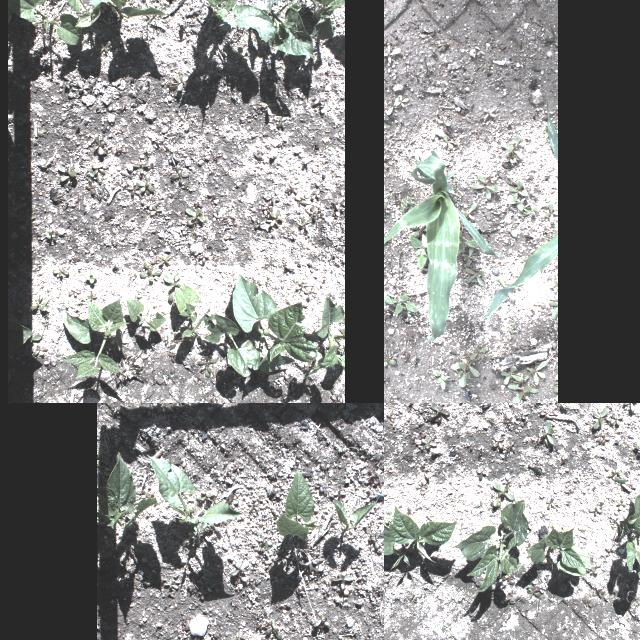crop: (384, 151, 507, 343), (232, 273, 320, 373), (145, 454, 243, 532), (454, 500, 530, 594), (486, 232, 558, 324), (59, 294, 128, 378), (97, 450, 157, 536), (384, 506, 457, 569), (197, 0, 275, 49), (203, 313, 260, 377), (254, 0, 314, 59), (8, 0, 84, 44), (305, 296, 345, 378), (526, 528, 594, 576), (276, 468, 318, 540), (332, 494, 382, 544), (171, 282, 211, 344), (90, 0, 167, 27), (297, 0, 345, 39), (624, 480, 640, 590), (8, 311, 34, 359), (126, 300, 166, 330), (63, 0, 101, 27), (546, 100, 556, 160)
weed: (450, 348, 488, 389), (410, 232, 438, 274), (468, 170, 500, 202), (496, 132, 522, 166), (508, 376, 539, 403), (384, 291, 415, 317), (506, 178, 528, 214), (384, 93, 408, 117), (196, 352, 218, 378), (140, 260, 162, 282), (494, 483, 514, 507), (432, 369, 450, 395), (500, 364, 520, 386), (170, 166, 190, 187), (532, 361, 548, 387), (464, 238, 480, 264), (540, 421, 556, 447), (230, 561, 250, 581), (184, 208, 206, 226), (384, 42, 402, 64), (464, 270, 486, 288), (137, 173, 155, 194), (428, 403, 449, 421), (169, 73, 189, 91), (592, 407, 608, 429), (384, 350, 399, 372), (31, 294, 49, 312), (270, 208, 286, 228), (440, 136, 460, 152), (478, 104, 498, 120), (266, 619, 282, 639), (332, 572, 352, 588), (58, 165, 76, 182), (547, 292, 557, 322), (164, 272, 182, 288), (92, 136, 106, 156), (432, 114, 452, 128), (505, 316, 519, 336), (614, 480, 636, 492), (522, 202, 538, 218), (619, 521, 631, 541), (371, 531, 384, 549), (54, 264, 70, 278), (84, 268, 98, 284), (526, 586, 540, 600), (464, 204, 474, 222), (150, 204, 164, 216), (44, 355, 56, 369), (34, 345, 48, 357), (610, 412, 624, 424), (594, 588, 608, 600), (420, 438, 436, 448), (545, 494, 555, 510), (492, 434, 503, 448), (128, 184, 140, 196), (304, 288, 316, 300), (546, 206, 554, 224), (474, 499, 486, 511), (610, 514, 622, 526), (92, 163, 105, 174), (158, 255, 172, 265), (540, 409, 554, 419), (477, 466, 487, 480), (500, 576, 514, 586), (414, 481, 428, 491), (623, 403, 638, 412), (488, 502, 499, 514), (132, 164, 148, 172), (384, 506, 391, 524), (608, 468, 620, 478), (588, 507, 602, 515), (408, 593, 422, 601), (384, 154, 389, 176), (516, 409, 528, 418), (332, 393, 342, 403), (385, 412, 395, 422), (506, 442, 516, 452), (616, 500, 626, 510), (598, 436, 610, 444), (581, 600, 593, 608), (468, 440, 477, 450), (592, 565, 600, 575), (553, 386, 557, 399), (635, 443, 640, 453), (526, 584, 532, 592), (560, 403, 569, 408)
